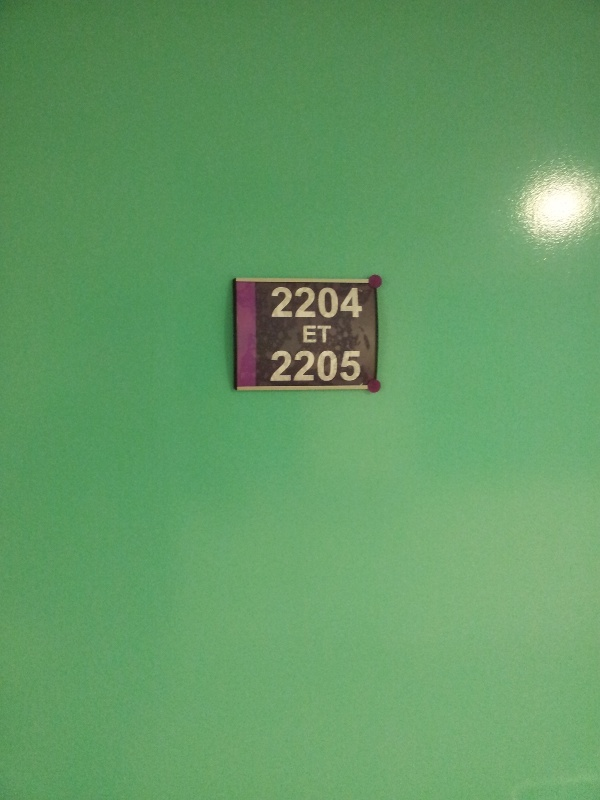text: (273, 286, 288, 319), (289, 286, 304, 319), (305, 286, 320, 319), (321, 286, 336, 319), (337, 286, 352, 319), (273, 350, 288, 382), (289, 350, 304, 382), (305, 350, 320, 382), (321, 350, 336, 382), (337, 350, 352, 382), (353, 286, 365, 319), (353, 350, 362, 382), (305, 325, 320, 344), (321, 325, 332, 344), (271, 286, 272, 319), (271, 350, 272, 382), (303, 325, 304, 344)
